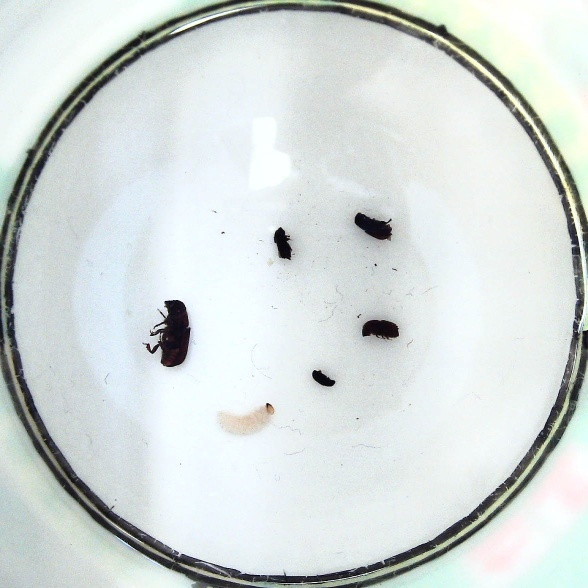acuminatus: (270, 224, 295, 260)
armandi: (355, 211, 396, 241)
boerner: (216, 400, 278, 434)
coleoptera: (310, 367, 339, 389)
leconte: (144, 299, 192, 367)
linnaeus: (360, 316, 401, 343)
